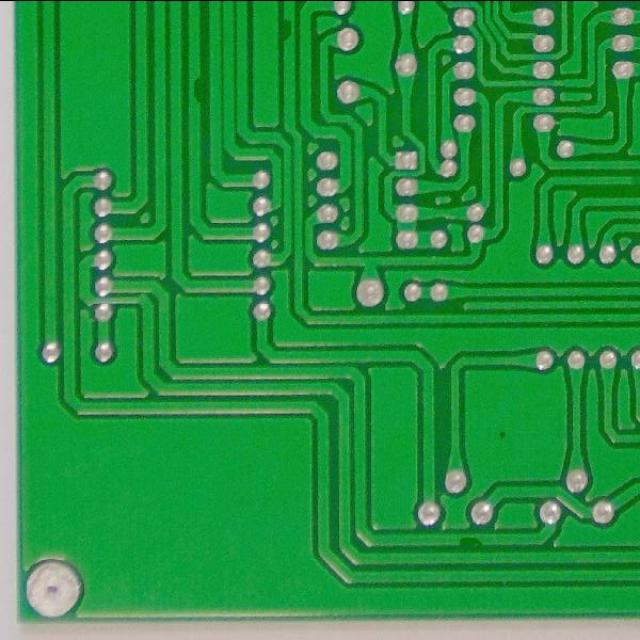MouseBite: (183, 69, 207, 110), (451, 529, 489, 549), (278, 12, 298, 47)
